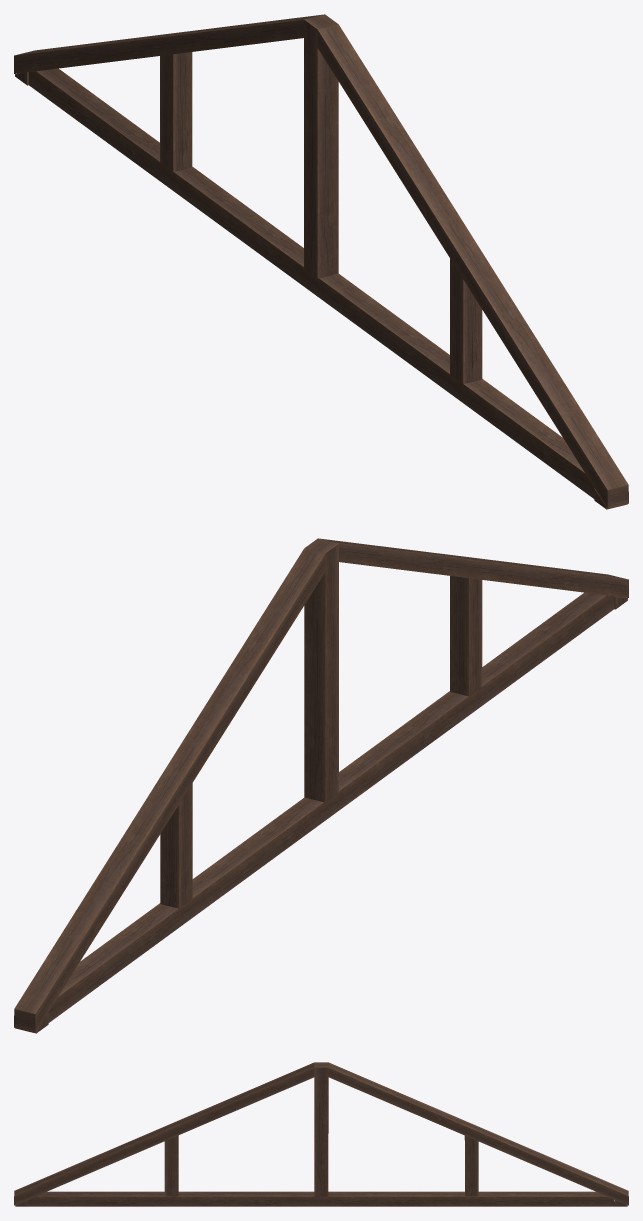
Rendered from yane_frame_4t_a12f_2.fbx.
3 renders of one model, top to bottom at view 1: azimuth 30°, elevation 25°; view 2: azimuth 150°, elevation 25°; view 3: azimuth 270°, elevation 25°, orthographic. The views are drawn at different scales.
Visible parts, largest first — view 1: yane_frame_4t_a12f_2; view 2: yane_frame_4t_a12f_2; view 3: yane_frame_4t_a12f_2.
Boxes of the visible parts, bbox=[...] form: yane_frame_4t_a12f_2: bbox=[14, 14, 628, 509]; yane_frame_4t_a12f_2: bbox=[14, 538, 628, 1033]; yane_frame_4t_a12f_2: bbox=[14, 1062, 628, 1206].
Bounding box in the file's own units: 18.5 × 225 × 902.
